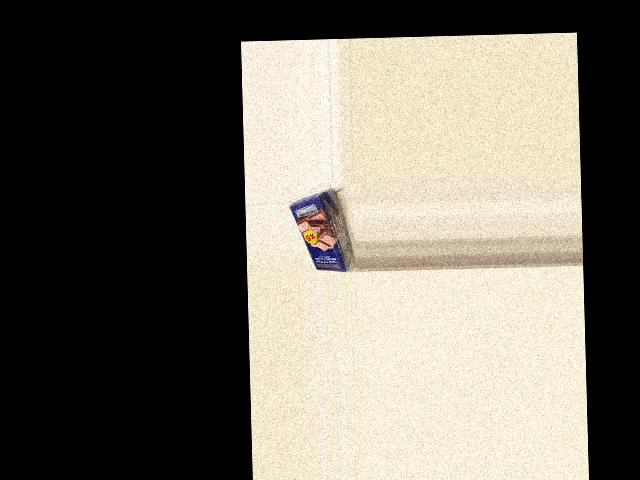chocolate: (288, 193, 351, 273)
